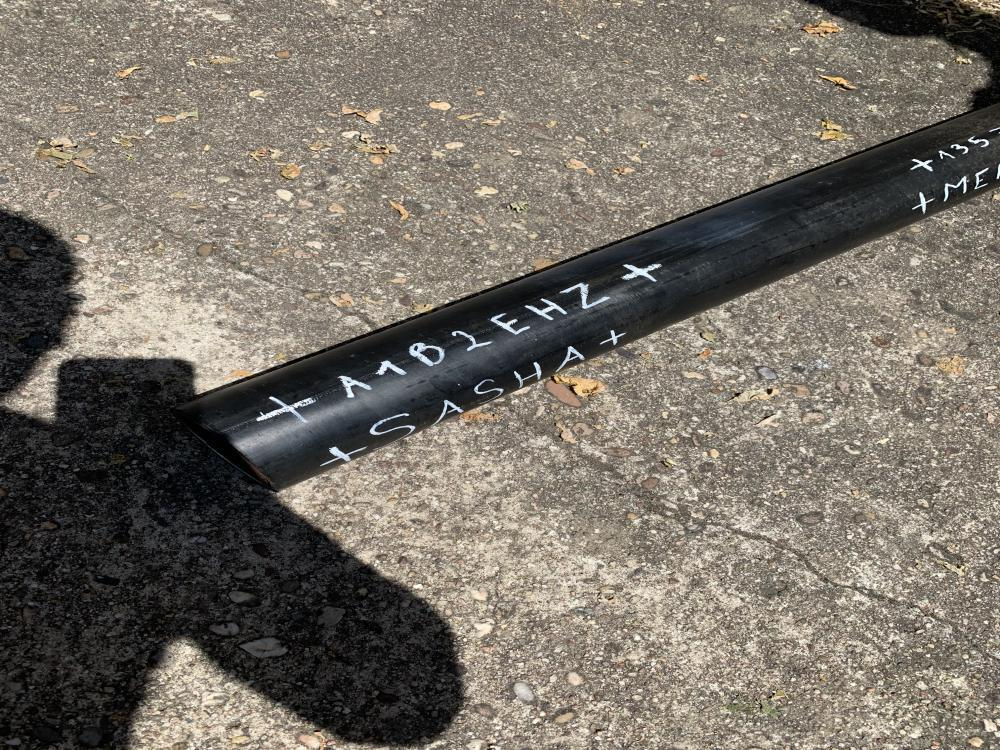+: (258, 396, 317, 424), (322, 447, 367, 466), (622, 263, 662, 283), (912, 192, 934, 214), (600, 329, 627, 345), (912, 158, 934, 172)
1: (376, 360, 408, 377), (938, 150, 955, 160)
2: (452, 330, 492, 350)
3: (950, 144, 970, 154)
5: (968, 136, 990, 148)
A: (432, 400, 466, 426), (555, 346, 586, 374), (338, 374, 372, 398)
B: (409, 342, 444, 366)
E: (491, 312, 531, 334), (974, 167, 988, 189)
H: (525, 299, 567, 320), (513, 362, 541, 386)
M: (945, 176, 967, 202)
S: (370, 414, 417, 450), (474, 379, 504, 404)
Z: (560, 283, 610, 309)
